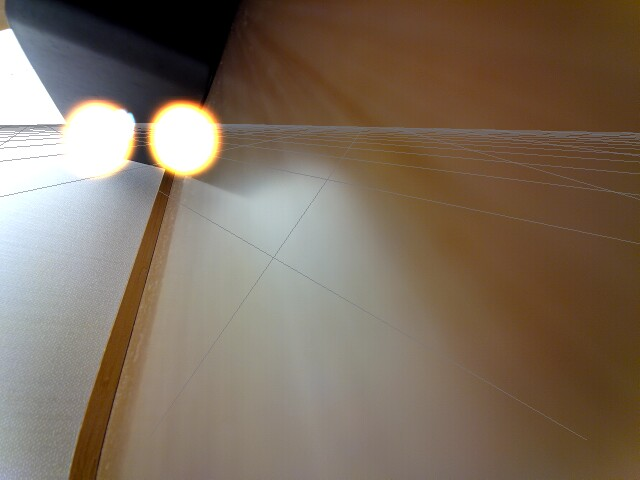firebig: (146, 90, 229, 183)
